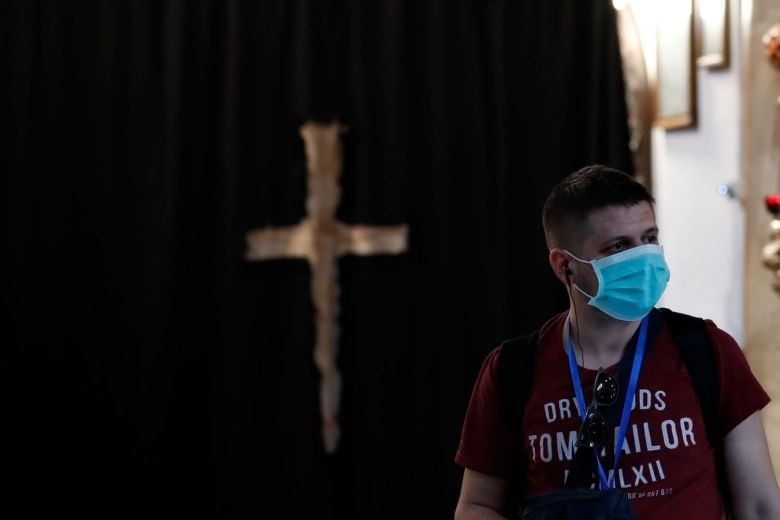face_with_mask: (541, 187, 680, 333)
